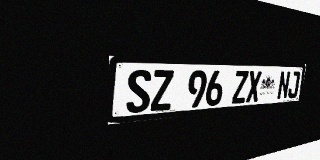6: (205, 70, 224, 106)
9: (187, 70, 207, 108)
J: (287, 71, 300, 99)
N: (277, 71, 291, 100)
S: (126, 70, 151, 114)
X: (246, 71, 262, 103)
Z: (150, 70, 174, 111), (232, 71, 249, 104)
